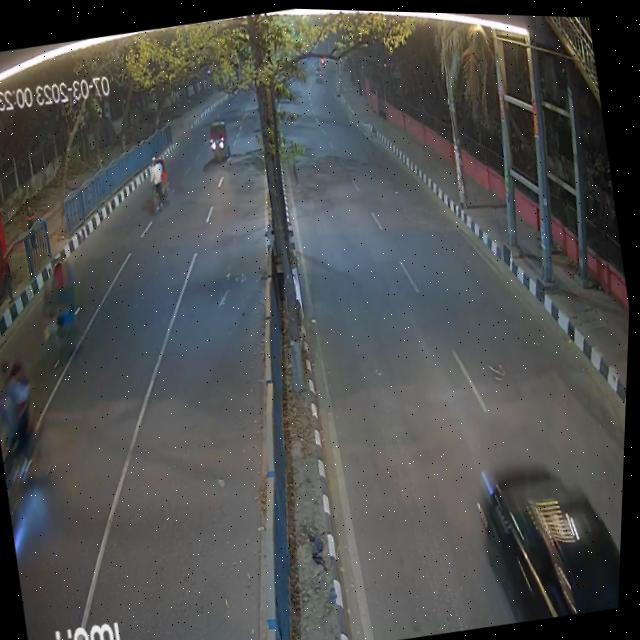cng: (204, 115, 237, 174)
rikshaw: (21, 248, 95, 377), (140, 146, 184, 224)
